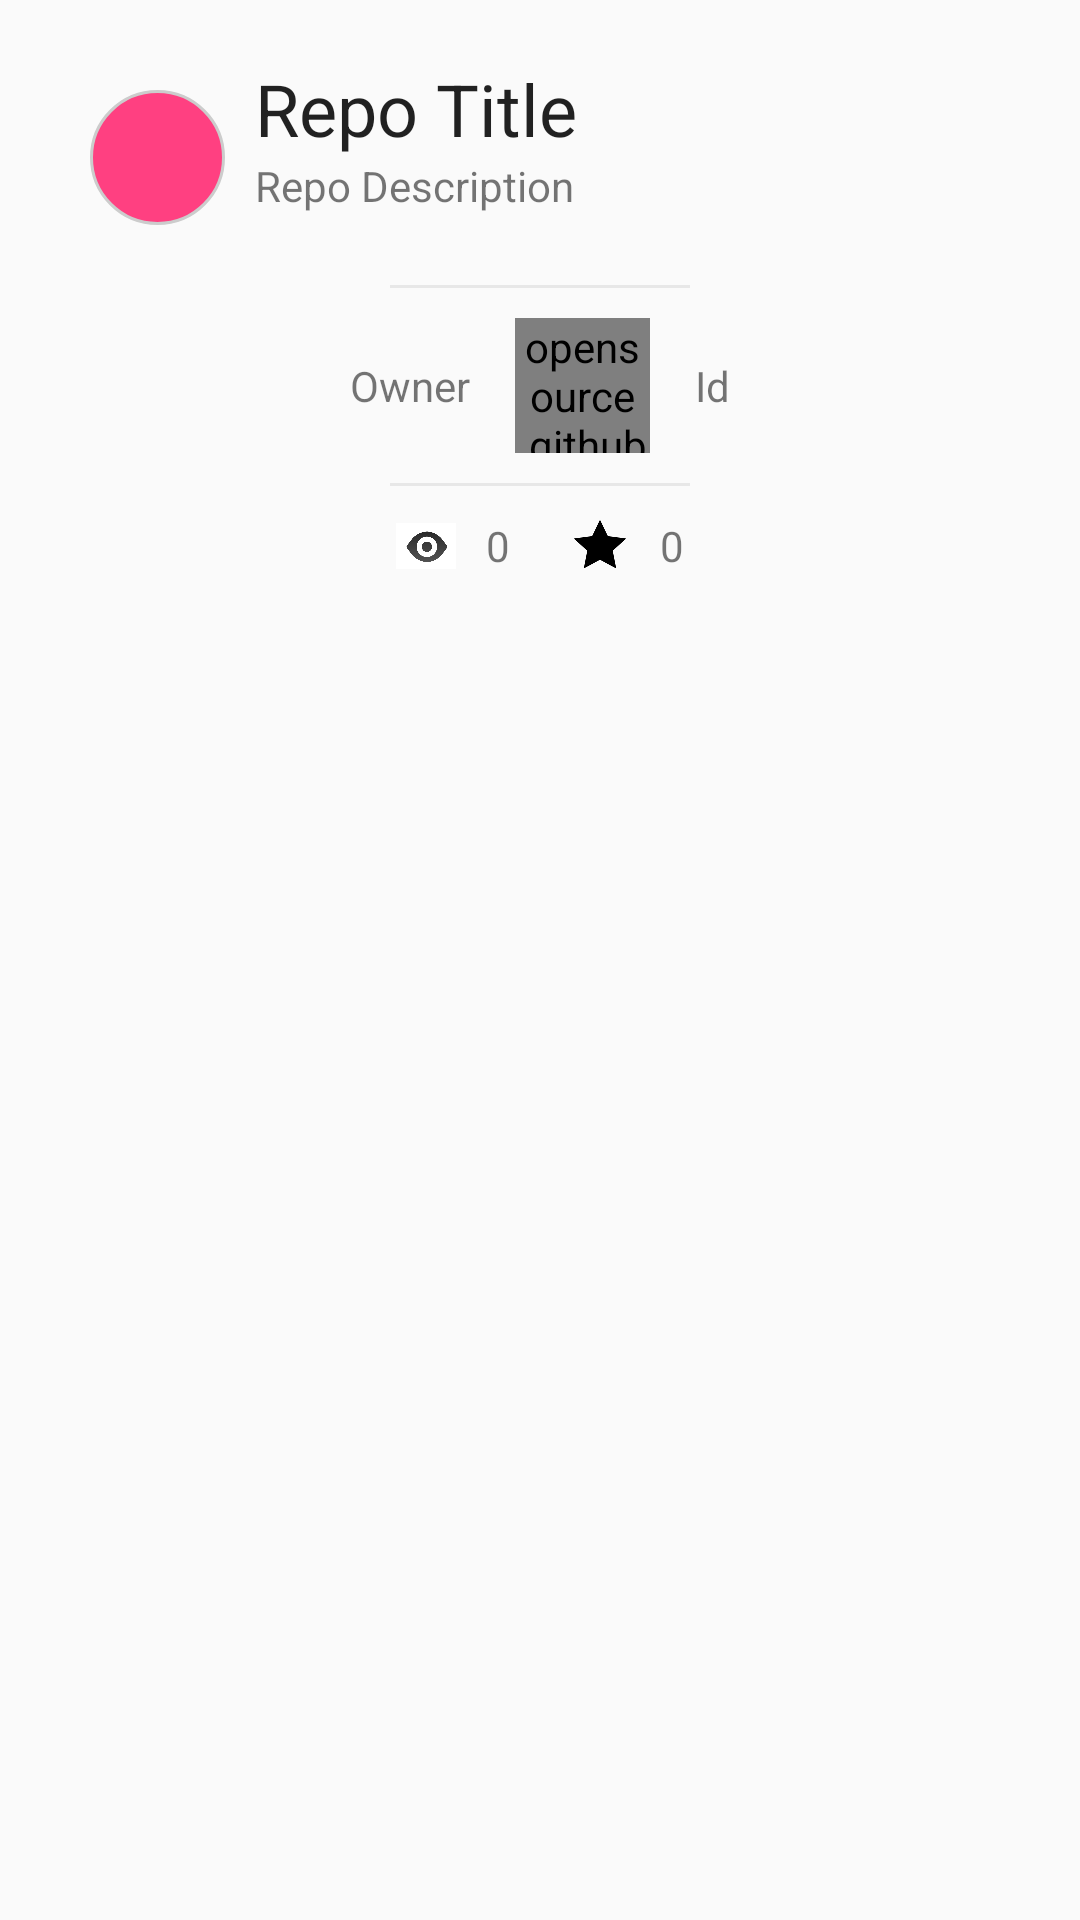

Named icons in this screenshot (1080w x 1920h) and their centers, (x,y):
star: (600,544)
watch: (426,546)
